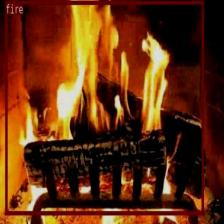fire: (5, 0, 204, 215)
